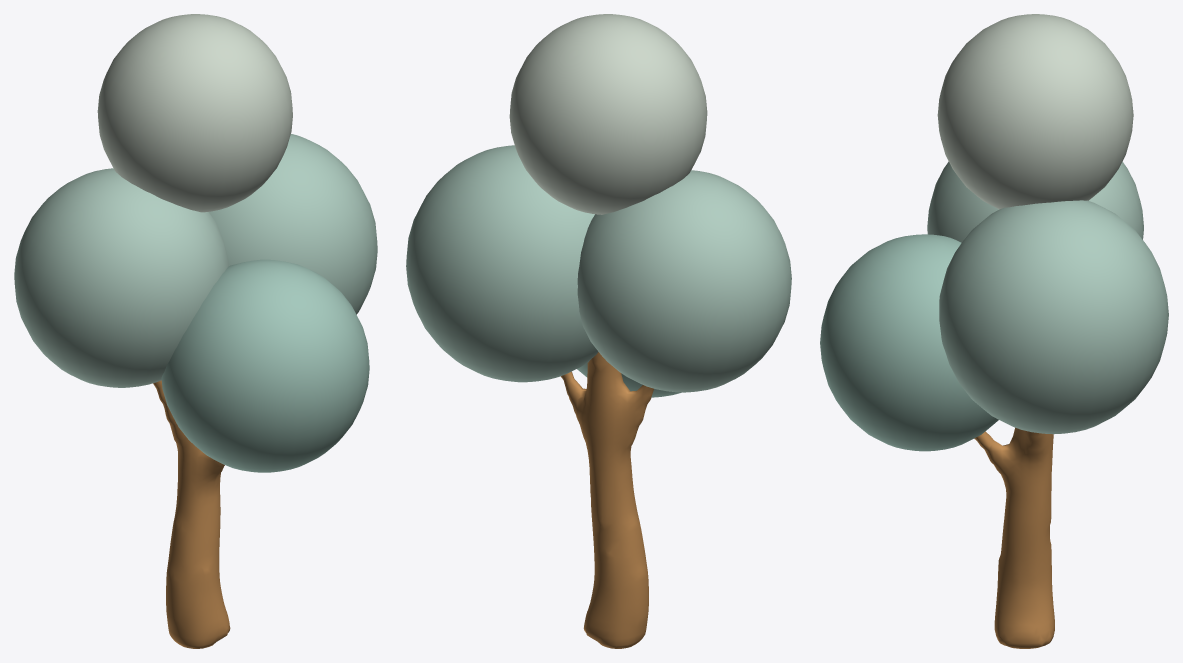
Rendered from pine-small.glb.
3 views of the same model, side by side, from view 1: azimuth 30°, elevation 25°; view 2: azimuth 150°, elevation 25°; view 3: azimuth 270°, elevation 25° (orthographic).
Visible parts, largest first — view 1: Tree · independent spherical crown, Tree · visible rounded forks; view 2: Tree · independent spherical crown, Tree · visible rounded forks; view 3: Tree · independent spherical crown, Tree · visible rounded forks.
Part boxes in pixels (box(x1,y1,x2,y2)): Tree · independent spherical crown: box(14, 14, 377, 472); Tree · visible rounded forks: box(153, 380, 230, 648); Tree · independent spherical crown: box(406, 14, 791, 397); Tree · visible rounded forks: box(561, 352, 653, 648); Tree · independent spherical crown: box(820, 14, 1168, 451); Tree · visible rounded forks: box(974, 427, 1054, 648).
Bounding box in the file's own units: 0.9556 × 1.63 × 0.8266.
